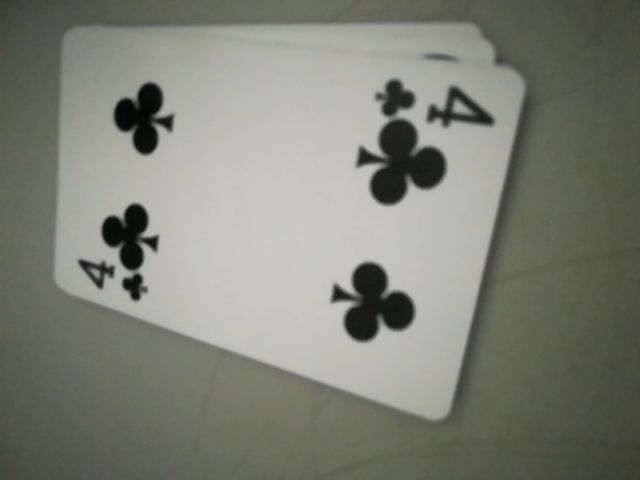mh 4: (374, 69, 502, 131), (72, 254, 153, 307)
